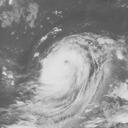cyclone: (36, 33, 112, 103)
